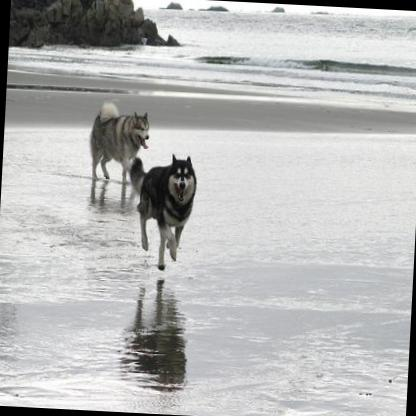malamute: (120, 150, 199, 272), (86, 96, 150, 186)
